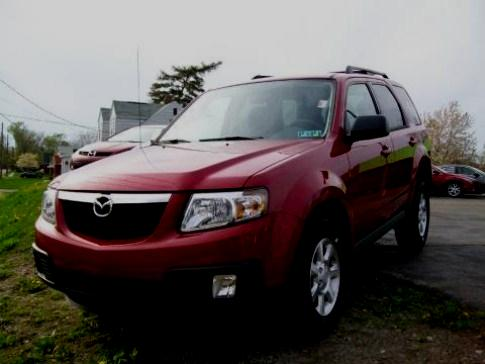Mazda: (89, 194, 124, 221)
